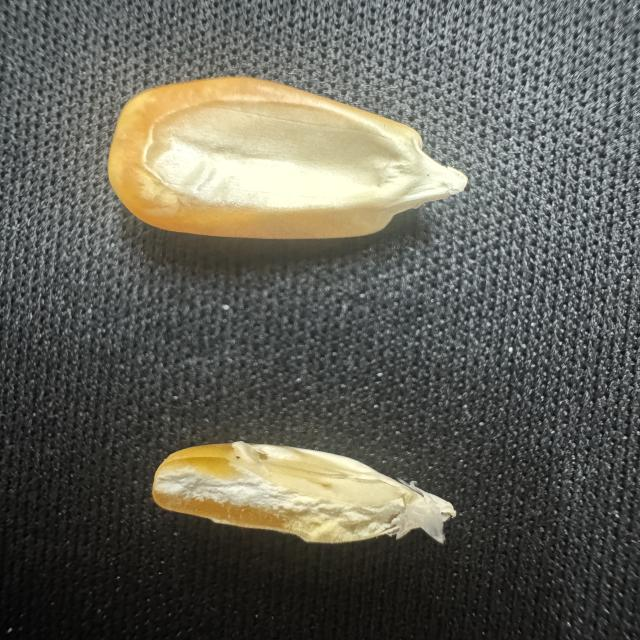Bad-Seed: (132, 432, 465, 554)
Good-Seed: (94, 68, 488, 260)
